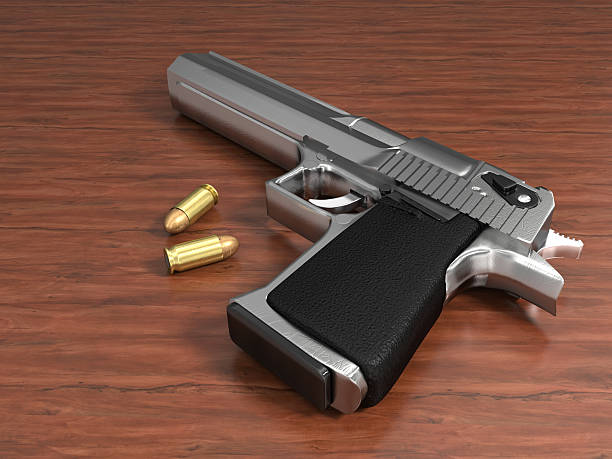gun: (162, 47, 584, 418)
